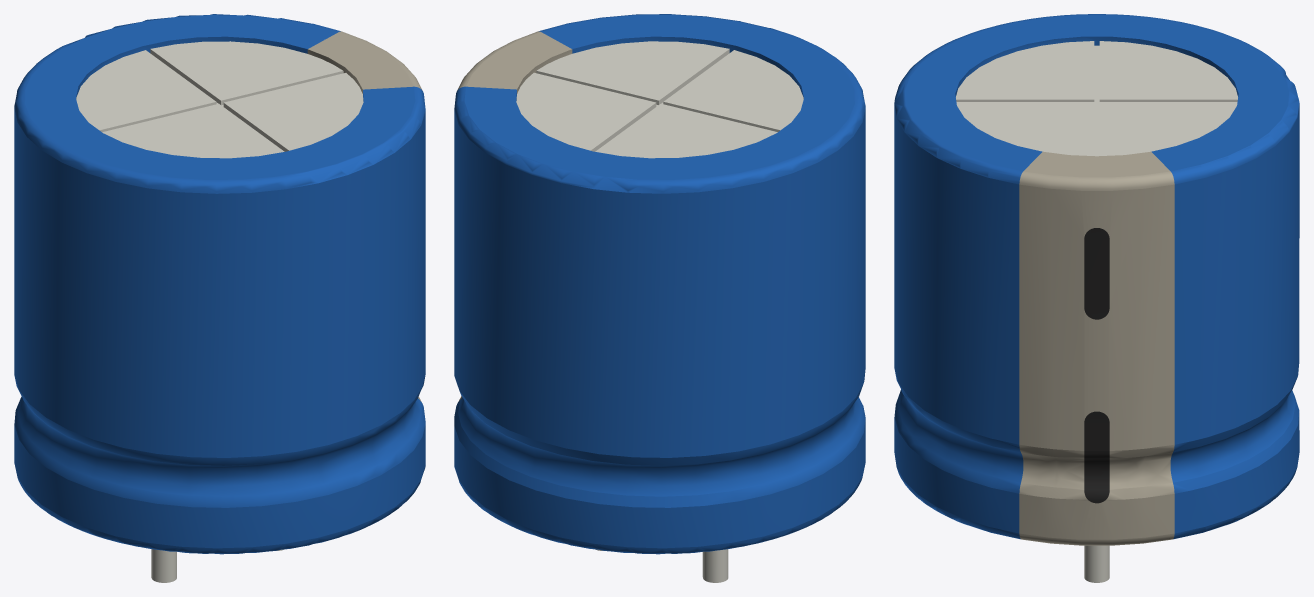
Rendered from kc-cp_radial_d8.0mm_p2.50mm.glb.
3 renders of one model, left to right at view 1: azimuth 30°, elevation 25°; view 2: azimuth 150°, elevation 25°; view 3: azimuth 270°, elevation 25°, orthographic.
Visible parts, largest first — view 1: 0_0.16666666666666666_0.5_0, 0.6666666666666666_0.6666666666666666_0.5833333333333334_0.8, 0.4166666666666667_0.4166666666666667_0.3333333333333333_0; view 2: 0_0.16666666666666666_0.5_0, 0.6666666666666666_0.6666666666666666_0.5833333333333334_0.8, 0.4166666666666667_0.4166666666666667_0.3333333333333333_0; view 3: 0_0.16666666666666666_0.5_0, 0.4166666666666667_0.4166666666666667_0.3333333333333333_0, 0.6666666666666666_0.6666666666666666_0.5833333333333334_0.8, 0_0_0_0.
Part boxes in pixels (<box>): 0_0.16666666666666666_0.5_0: <box>14,14,425,554</box>; 0.6666666666666666_0.6666666666666666_0.5833333333333334_0.8: <box>76,41,363,582</box>; 0.4166666666666667_0.4166666666666667_0.3333333333333333_0: <box>307,31,422,401</box>; 0_0.16666666666666666_0.5_0: <box>454,14,865,554</box>; 0.6666666666666666_0.6666666666666666_0.5833333333333334_0.8: <box>516,41,803,582</box>; 0.4166666666666667_0.4166666666666667_0.3333333333333333_0: <box>457,31,572,401</box>; 0_0.16666666666666666_0.5_0: <box>894,14,1299,539</box>; 0.4166666666666667_0.4166666666666667_0.3333333333333333_0: <box>1019,151,1174,545</box>; 0.6666666666666666_0.6666666666666666_0.5833333333333334_0.8: <box>956,41,1237,582</box>; 0_0_0_0: <box>1084,228,1109,503</box>.
Size of the model in its own units: 0.8 by 1 by 0.7998.
